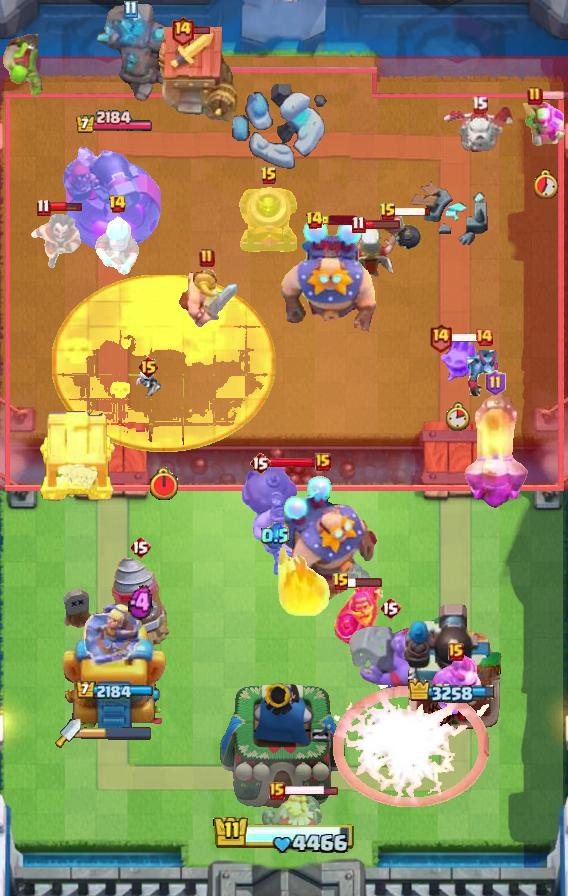archer-queen: (345, 621, 435, 699)
bar: (59, 595, 169, 731)
bar-level: (1, 34, 51, 100)
barbarian-evolution: (331, 685, 489, 807)
bomb: (37, 408, 117, 502)
cannoneer-tower: (95, 3, 185, 105)
clock: (212, 814, 356, 856)
electro-spirit: (128, 585, 153, 621), (261, 522, 289, 550)
elixir: (148, 467, 180, 502), (534, 169, 559, 199), (446, 402, 470, 431)
elixir-golem-small: (429, 654, 483, 714)
emote: (285, 783, 340, 796), (271, 455, 322, 469), (363, 218, 400, 230), (347, 576, 383, 588), (48, 201, 83, 213), (395, 206, 432, 217), (452, 332, 489, 343), (321, 215, 357, 225), (540, 91, 567, 102), (193, 25, 212, 35)
firecracker-evolution: (333, 580, 384, 649)
furnace: (461, 390, 529, 510)
giant-snowball: (520, 99, 568, 149)
goblin-cage: (237, 185, 301, 255)
goblin-giant: (174, 264, 240, 328)
heal-spirit: (135, 369, 161, 398)
ice-golem: (378, 209, 422, 251)
king-tower: (219, 678, 349, 826)
king-tower-bar: (81, 726, 153, 740)
little-prince: (269, 475, 377, 601), (275, 218, 381, 340)
lumberjack: (28, 212, 84, 270)
magic-archer: (110, 555, 170, 649)
mini-pekka: (441, 103, 517, 155)
mirror: (437, 333, 477, 383)
mortar: (93, 213, 141, 277)
mortar-evolution: (260, 789, 322, 849)
phoenix-egg: (52, 275, 276, 453)
poison: (324, 221, 412, 295)
royal-delivery: (462, 350, 506, 396)
selected: (408, 678, 498, 705), (74, 110, 154, 135), (75, 681, 153, 701)
sparky: (152, 26, 238, 124)
text: (170, 14, 195, 45), (428, 322, 453, 353), (136, 355, 159, 379), (485, 370, 506, 396), (249, 451, 271, 475), (129, 535, 151, 559), (379, 596, 401, 620), (304, 210, 324, 230), (474, 327, 494, 347), (108, 194, 127, 214), (260, 166, 278, 186), (379, 202, 397, 222), (332, 572, 350, 592), (471, 94, 488, 113), (527, 86, 543, 106), (199, 248, 215, 268), (315, 453, 331, 471), (448, 643, 464, 661), (269, 782, 285, 800), (122, 1, 137, 20), (351, 215, 366, 233), (37, 199, 51, 217)
tower-bar: (403, 601, 503, 731), (63, 136, 165, 256)
valkyrie: (273, 548, 333, 618)
wizard: (240, 465, 310, 575)
